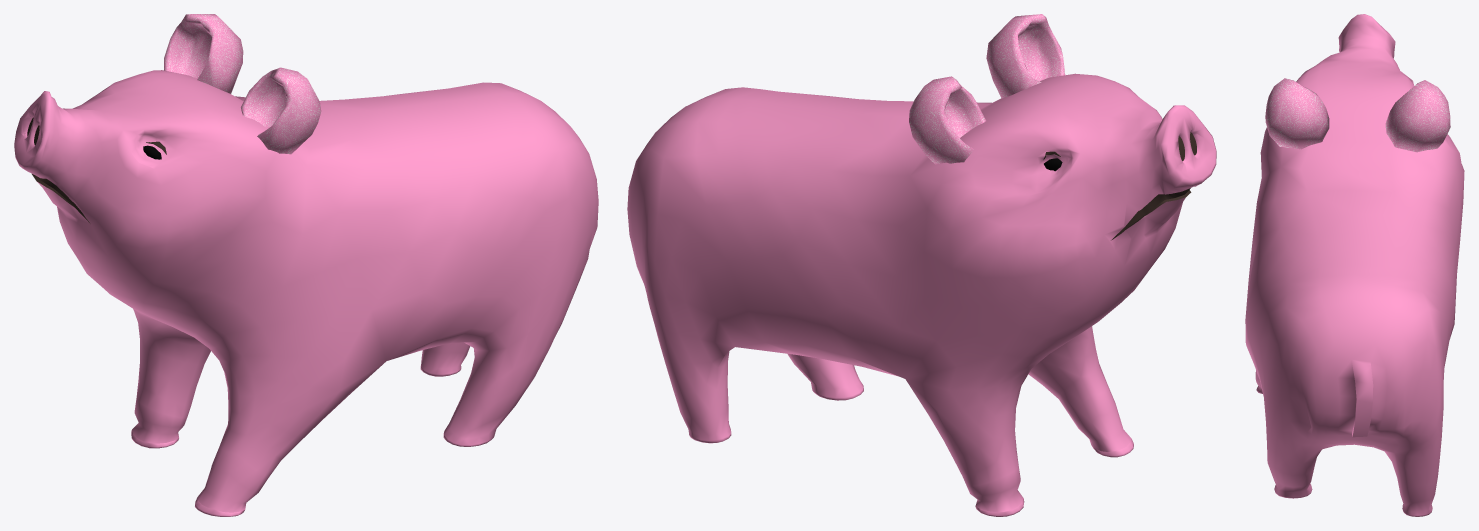
The model's file is pig_tierno.dae.
3 views of the same model, side by side, from view 1: azimuth 30°, elevation 25°; view 2: azimuth 150°, elevation 25°; view 3: azimuth 270°, elevation 25° (orthographic). The views are drawn at different scales.
Parts seen in each view (by area): view 1: Component_3, Component_1 (×2); view 2: Component_3, Component_1 (×2); view 3: Component_3, Component_1 (×2).
Part boxes in pixels (<box>): Component_3: <box>14,70,598,516</box>; Component_1 (×2): <box>164,14,321,154</box>; Component_3: <box>627,73,1216,516</box>; Component_1 (×2): <box>909,14,1065,164</box>; Component_3: <box>1245,14,1464,516</box>; Component_1 (×2): <box>1265,78,1450,152</box>.
Bounding box in the file's own units: 75.89 × 31.74 × 53.78.
